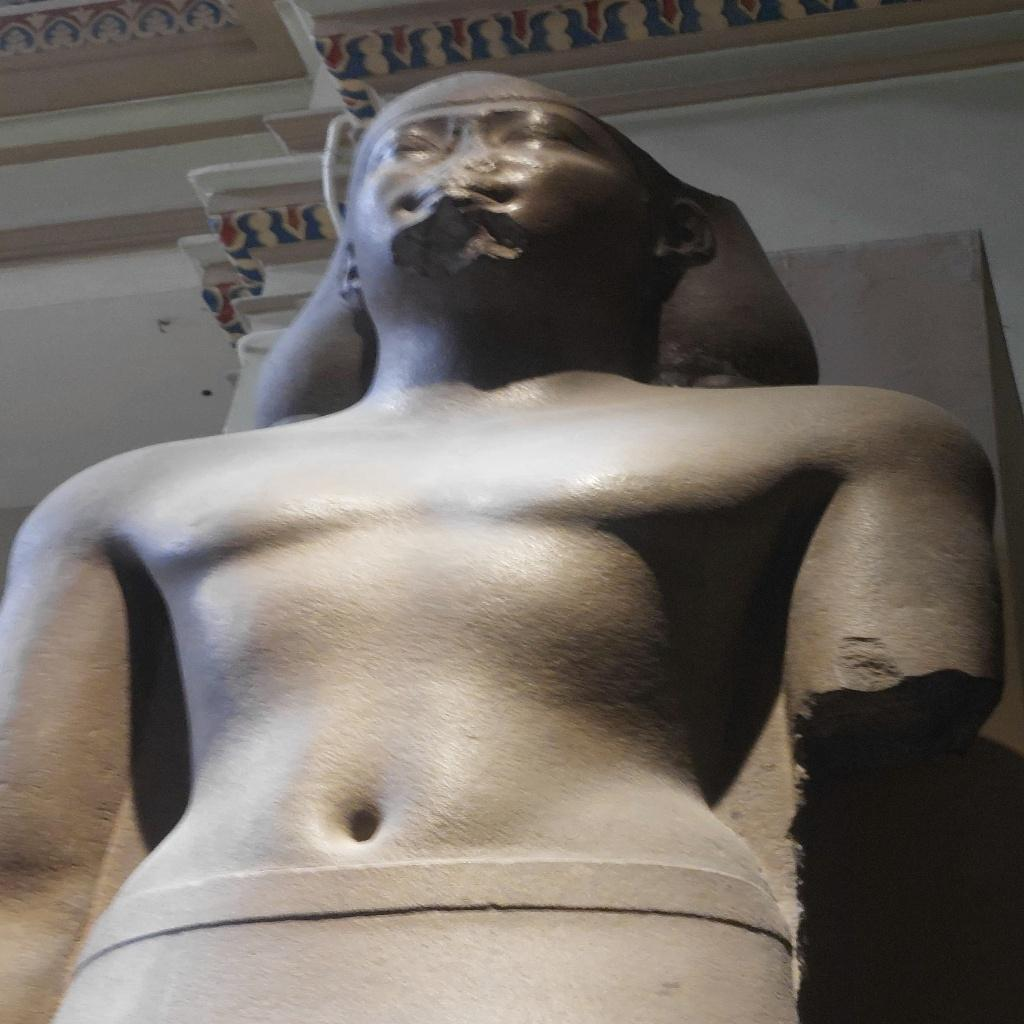Colossal Statue of Hormoheb: (6, 66, 1010, 1018)
